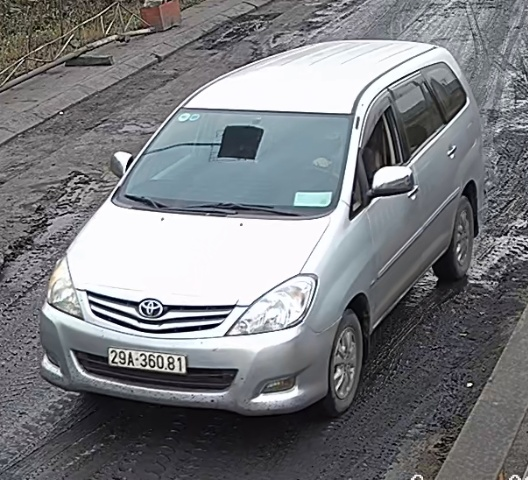vehicle plate: (105, 341, 192, 376)
